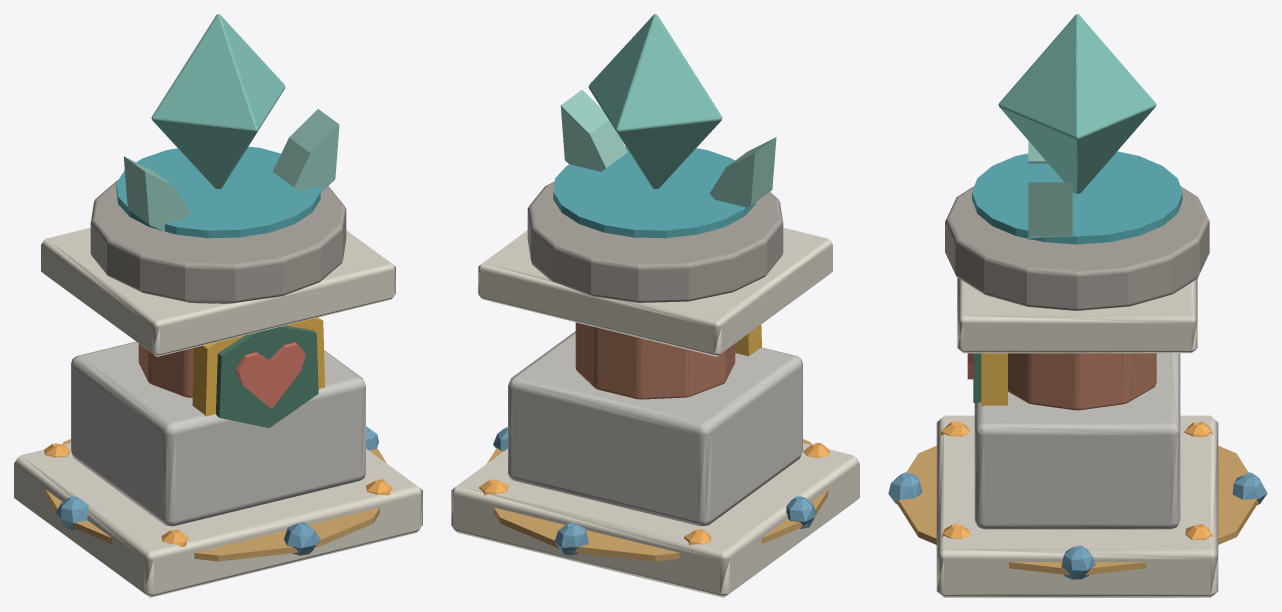
File: SM_Rest_Heal.fbx
3 renders of one model, left to right at view 1: azimuth 30°, elevation 25°; view 2: azimuth 150°, elevation 25°; view 3: azimuth 270°, elevation 25°, orthographic. The views are drawn at different scales.
Parts seen in each view (by area): view 1: SM_Rest_Heal; view 2: SM_Rest_Heal; view 3: SM_Rest_Heal.
Boxes of the visible parts, x1=… form: SM_Rest_Heal: x1=14, y1=14, x2=422, y2=597; SM_Rest_Heal: x1=451, y1=14, x2=859, y2=597; SM_Rest_Heal: x1=888, y1=14, x2=1267, y2=597.
Bounding box in the file's own units: 153 × 155 × 233.
